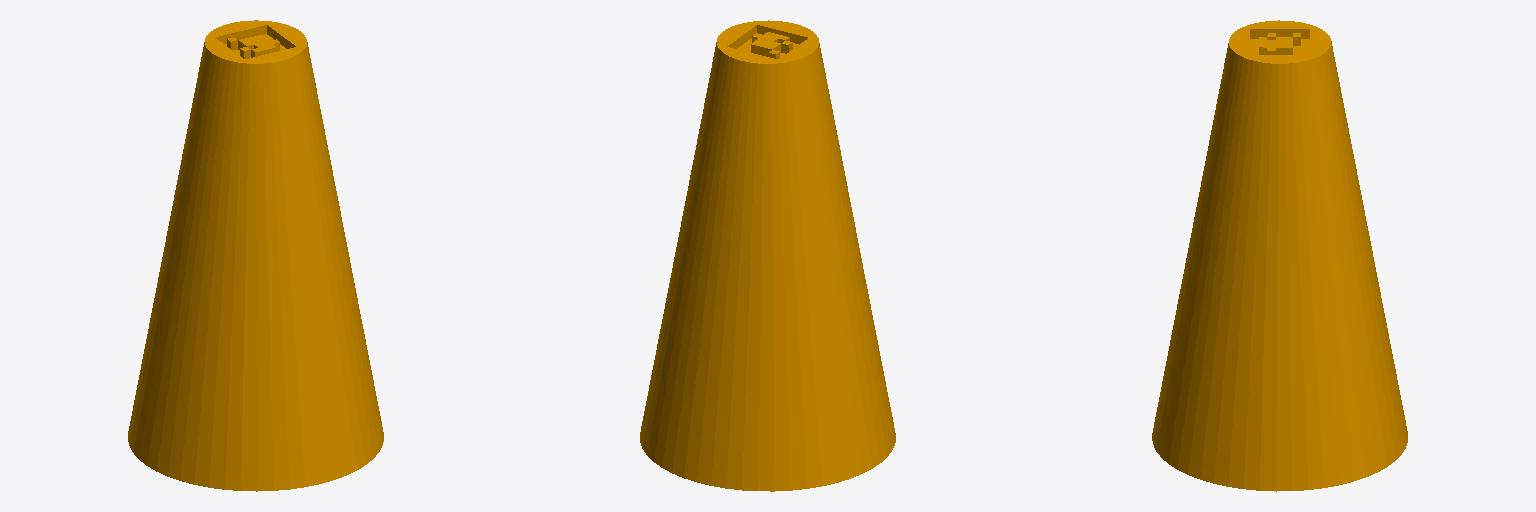
The robot description file, URDF, robot "45_10_slope_cone":
<?xml version="1.0" ?>
<robot name="45_10_slope_cone">

    <link name="45_10_slope_cone">
        <visual>
            <origin rpy="1.5707963267948966 0 0" xyz="0 0 0"/>
            <geometry>
                <mesh filename="Shapes/45_10_slope_cone.STL" scale="1 1 1"/>
            </geometry>
        </visual>
        <collision>
            <geometry>
                <mesh filename="Shapes/45_10_slope_cone.STL" scale="1 1 1"/>
            </geometry>
        </collision>
    </link>

</robot>

--- What the picture shows (computed from the rendered views, not written in the file) ---
Views: 3 orthographic renders of the robot side by side, from view 1: azimuth 30°, elevation 25°; view 2: azimuth 150°, elevation 25°; view 3: azimuth 270°, elevation 25°.
Robot: 45_10_slope_cone — 1 links, 0 joints (none); root link 45_10_slope_cone; default pose: every joint at zero.
Links seen in each view (by area): view 1: 45_10_slope_cone; view 2: 45_10_slope_cone; view 3: 45_10_slope_cone.
Link boxes in pixels (box(x1,y1,x2,y2)): 45_10_slope_cone: box(128, 20, 383, 491); 45_10_slope_cone: box(640, 20, 895, 491); 45_10_slope_cone: box(1152, 20, 1407, 491).
Size in the robot's own frame: 49.97 by 49.95 by 85 metres.
Meshes: 1 distinct files referenced, 1 mesh visuals loaded (1 binary STL).
